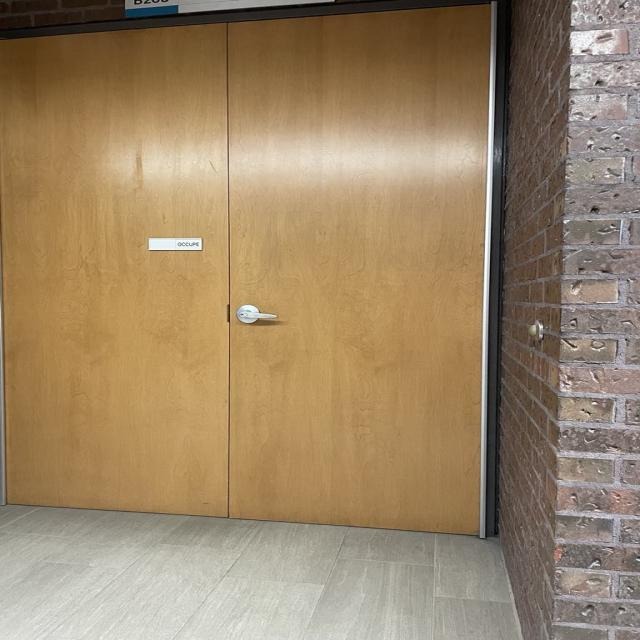door-handle: (237, 305, 278, 323)
